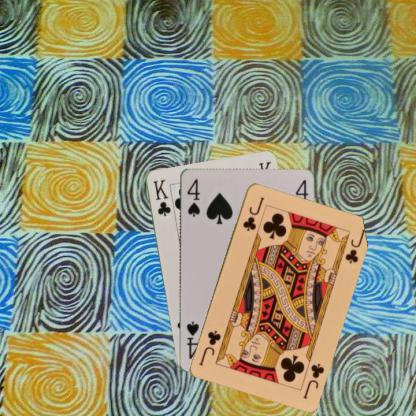4s: (184, 176, 201, 217)
Jc: (240, 193, 266, 232), (300, 360, 325, 400)
Kc: (150, 176, 172, 217)
